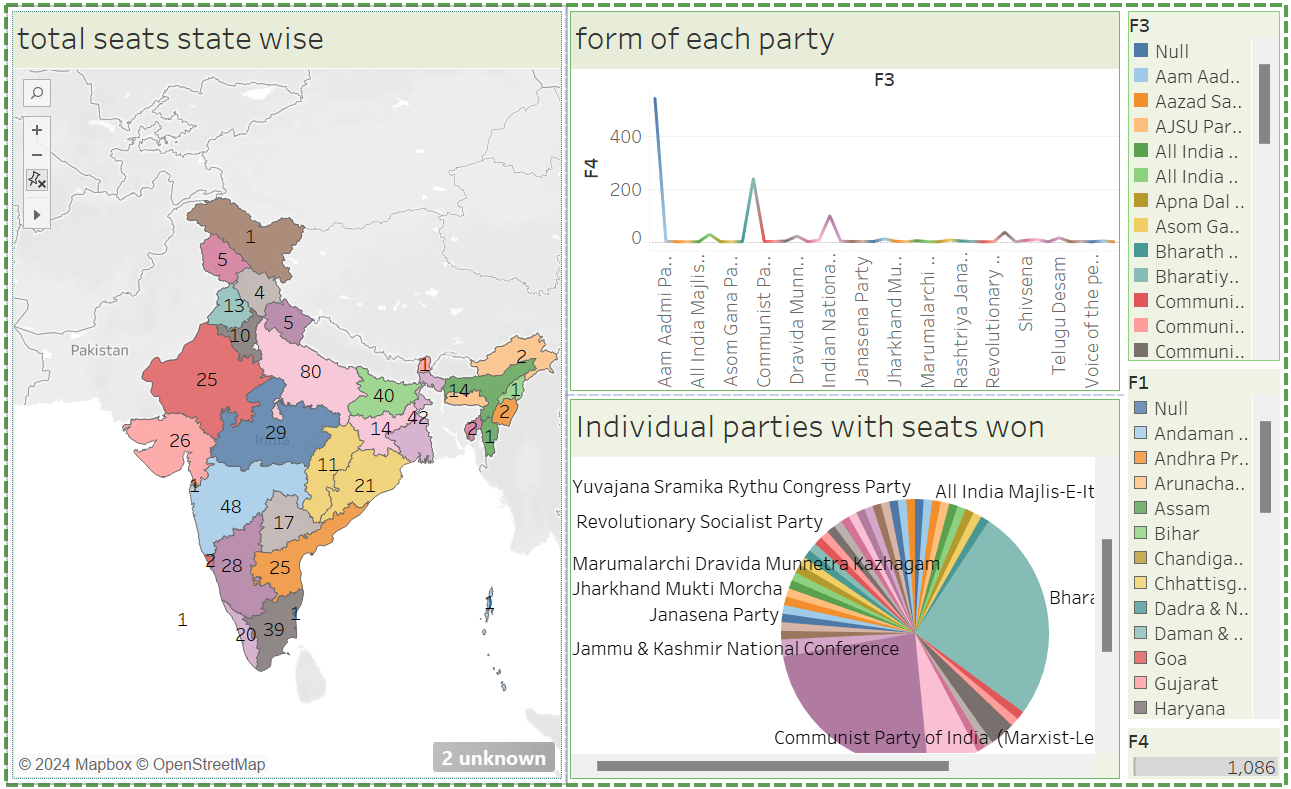

Layout of this report page (visuals, bound fields, positions):
{"tool":"tableau","page":{"name":"Dashboard 1","canvas":[1300,800],"ordinal":0},"visuals":[{"type":"worksheet","title":"Sheet 2","mark":"Multipolygon","box":[12,12,558,776]},{"type":"worksheet","title":"Sheet 3","mark":"Line","rows":["F4"],"cols":["F3"],"box":[570,12,558,388]},{"type":"legend","title":"Sheet 3","param":"[federated.0kb7lgu03bybt21gvcan219d4v7t].[none:F3:nk]","box":[1128,12,160,358.5]},{"type":"legend","title":"Sheet 2","param":"[federated.0kb7lgu03bybt21gvcan219d4v7t].[none:F1:nk]","box":[1128,370.5,160,358.5]},{"type":"worksheet","title":"Sheet 1","mark":"Pie","box":[570,400,558,388]},{"type":"legend","title":"Sheet 1","param":"[federated.0kb7lgu03bybt21gvcan219d4v7t].[sum:F4:qk]","box":[1128,729,160,59]}]}

Visuals, with their boxes in screenshot pixels (x1, y1, x2, y2), scaled from the page's 1300x800 canvas onto the 1291x789 screenshot:
"Sheet 2" worksheet (Multipolygon marks): (12,12,566,777)
"Sheet 3" worksheet (Line marks): (566,12,1120,394)
"Sheet 3" legend: (1120,12,1279,365)
"Sheet 2" legend: (1120,365,1279,719)
"Sheet 1" worksheet (Pie marks): (566,394,1120,777)
"Sheet 1" legend: (1120,719,1279,777)
